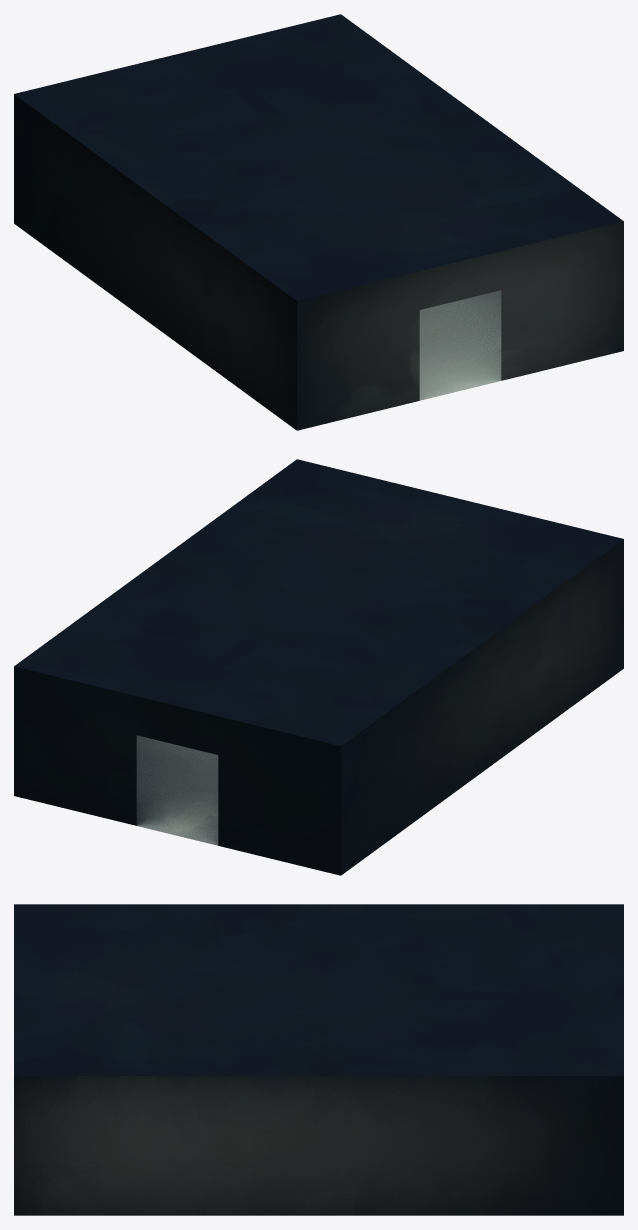
Rendered from pip2_lvl4room_bm.fbx.
The picture shows the model from 3 angles, top to bottom: view 1: azimuth 30°, elevation 25°; view 2: azimuth 150°, elevation 25°; view 3: azimuth 270°, elevation 25°; orthographic projection. The views are drawn at different scales.
Visible parts, largest first — view 1: lvl4_room; view 2: lvl4_room; view 3: lvl4_room.
Boxes of the visible parts, x1,y1,x2,y2 form: lvl4_room: (14,14,623,430); lvl4_room: (14,459,623,875); lvl4_room: (14,904,623,1215).
Size of the model in its own units: 792 by 300 by 1187.
1 material, 1 textured.
